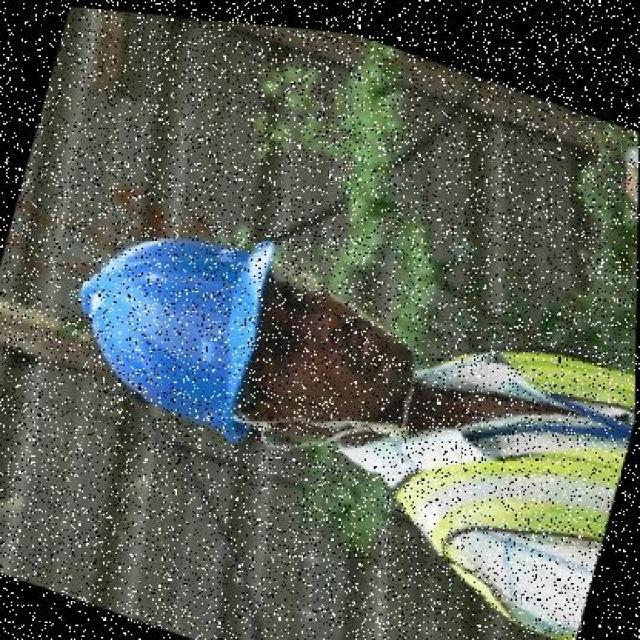helmet: (53, 174, 285, 445)
vest: (369, 293, 636, 639)
